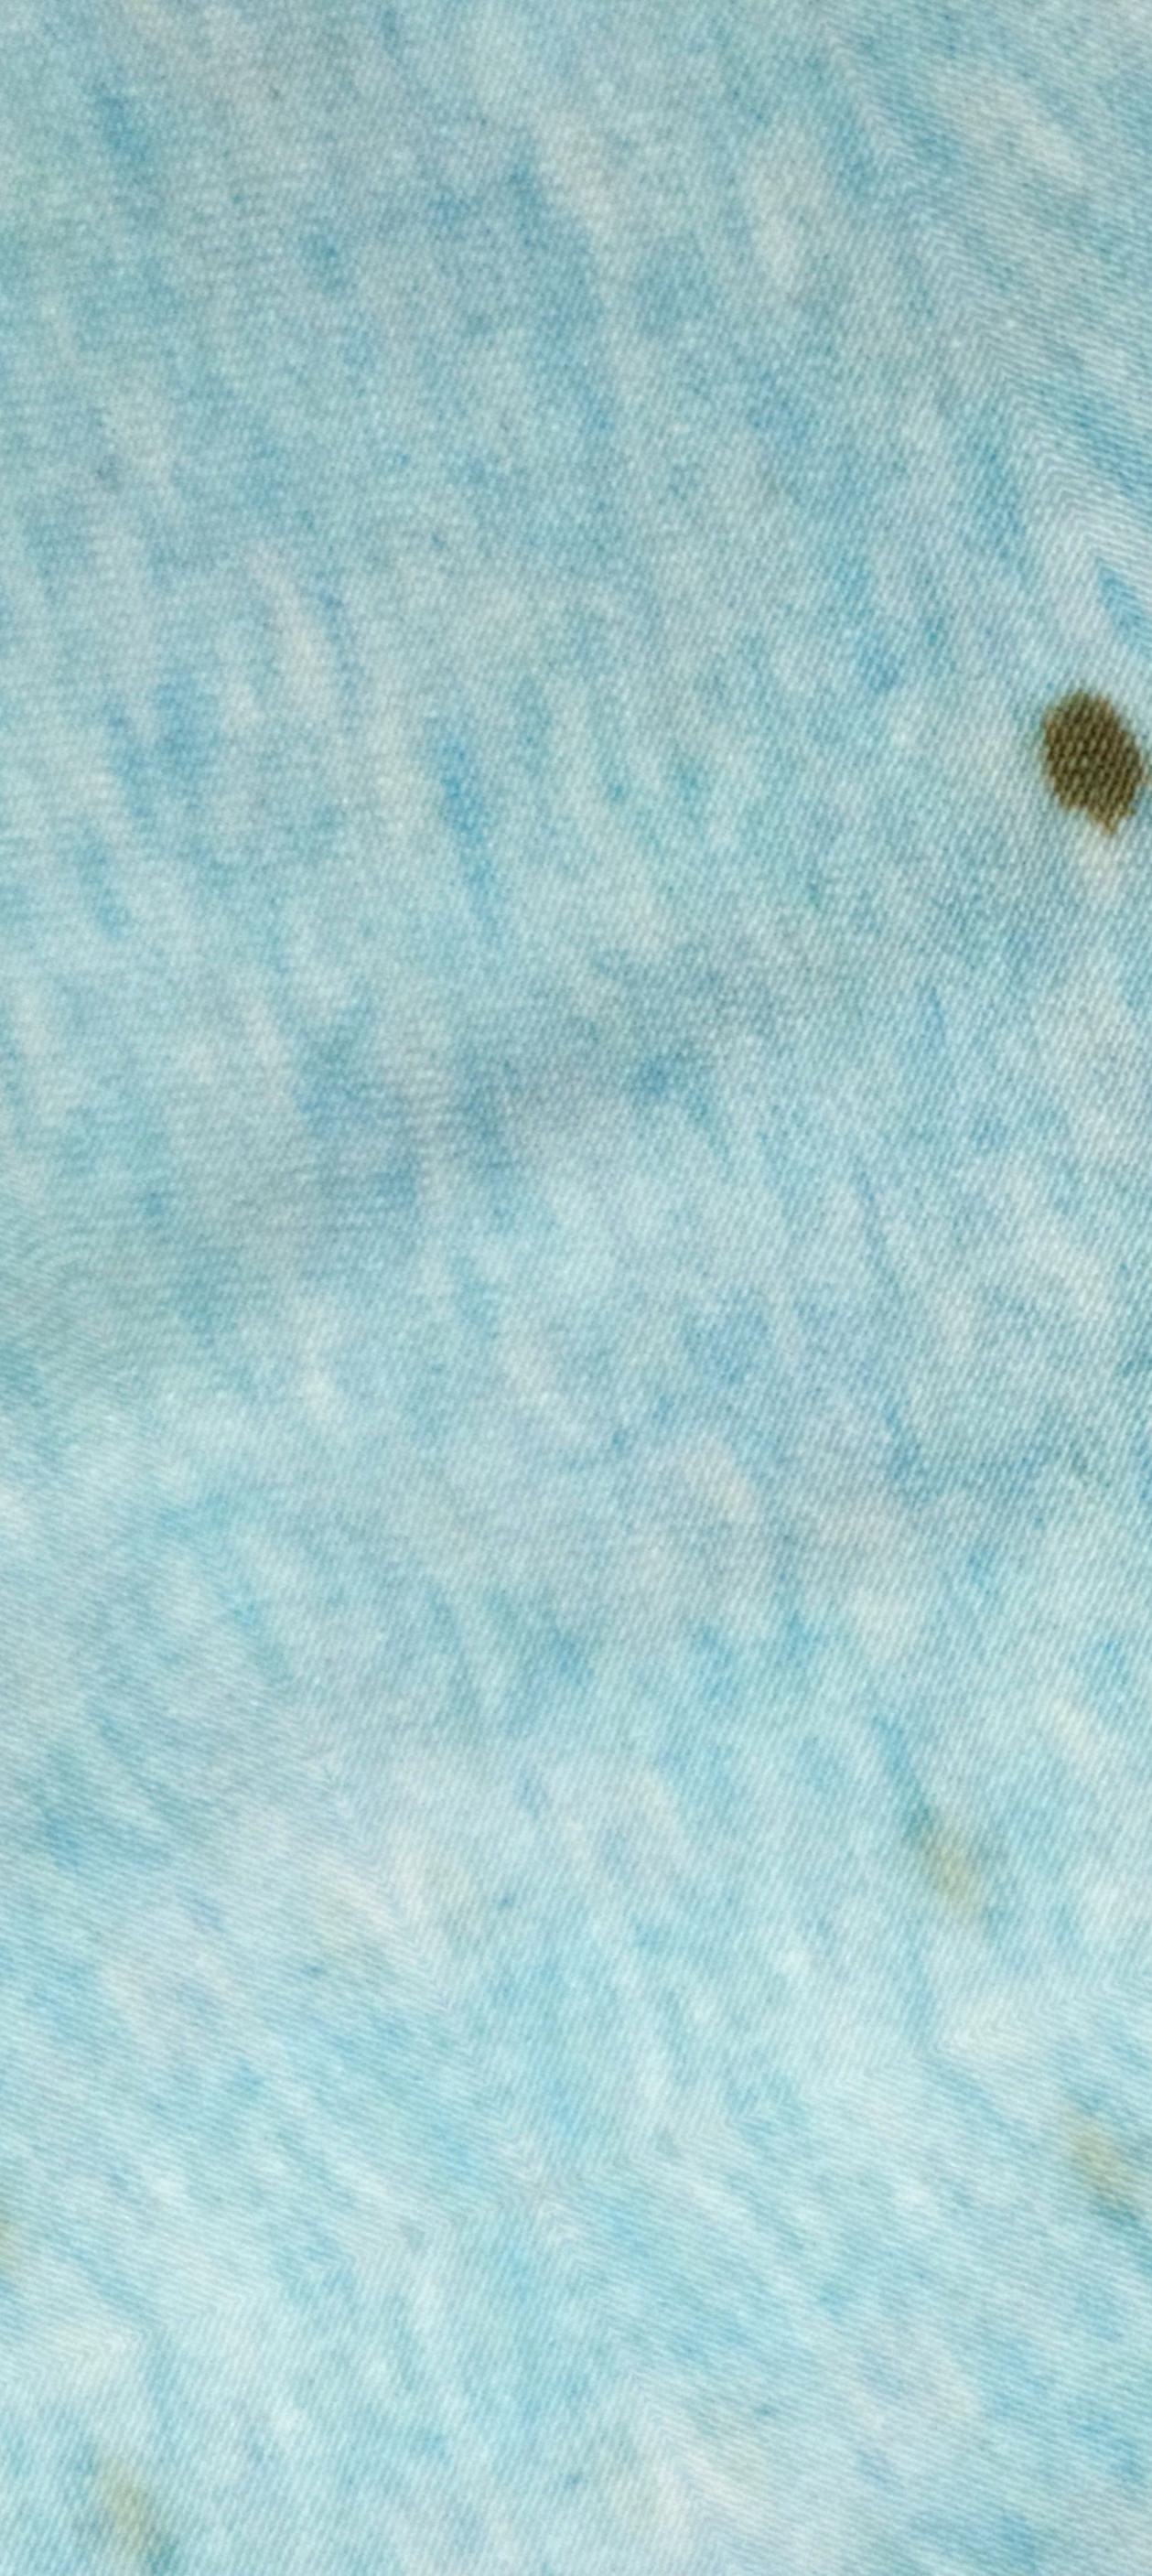stain: (999, 647, 1140, 892)
